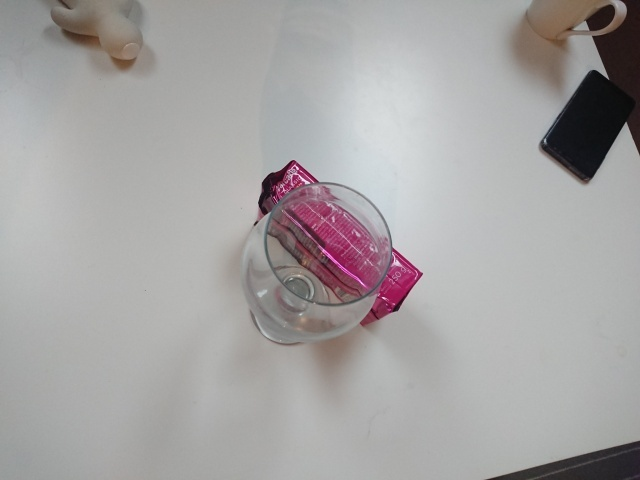Barcaffe Classic Original 225g: (251, 157, 424, 329)
